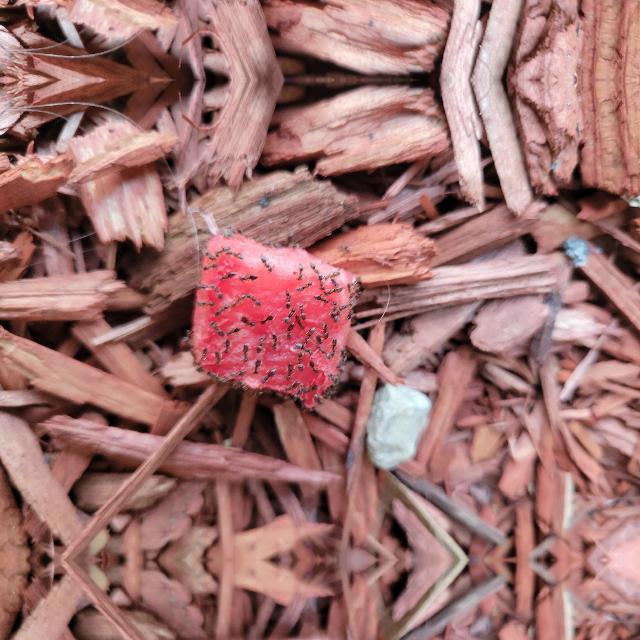Tapinoma: (228, 292, 246, 310), (206, 368, 226, 384), (260, 254, 276, 272), (282, 230, 298, 248), (234, 376, 250, 392), (315, 270, 325, 294), (338, 297, 358, 309), (262, 368, 278, 382), (208, 320, 224, 334), (246, 292, 262, 306), (321, 269, 337, 283), (310, 393, 326, 407), (296, 343, 314, 355), (198, 344, 208, 364), (240, 315, 256, 327), (326, 370, 338, 386), (220, 245, 234, 258), (217, 270, 235, 280), (228, 250, 246, 260), (229, 368, 247, 378), (258, 387, 276, 397), (260, 314, 274, 326), (250, 360, 262, 374), (240, 342, 252, 356), (282, 290, 294, 304), (292, 264, 304, 278), (212, 285, 224, 299), (304, 328, 316, 342), (348, 316, 362, 328), (354, 280, 366, 294), (295, 282, 311, 292), (285, 380, 301, 390), (295, 315, 305, 331), (318, 347, 332, 358), (328, 306, 339, 320), (312, 294, 330, 302), (240, 275, 258, 283), (308, 360, 320, 372), (281, 310, 293, 322), (270, 334, 280, 348), (214, 306, 228, 316), (284, 322, 294, 336), (320, 323, 330, 337), (284, 363, 294, 377), (342, 346, 352, 360), (304, 384, 318, 394), (314, 330, 324, 344), (294, 384, 304, 398), (328, 337, 339, 349), (213, 351, 223, 364), (207, 250, 220, 260), (195, 280, 208, 290), (226, 326, 242, 334), (199, 298, 215, 306), (326, 286, 342, 294), (221, 340, 231, 352), (295, 305, 305, 317), (292, 396, 304, 406), (253, 342, 264, 352), (294, 360, 304, 370), (310, 263, 320, 273), (203, 264, 219, 270), (328, 276, 338, 284)
